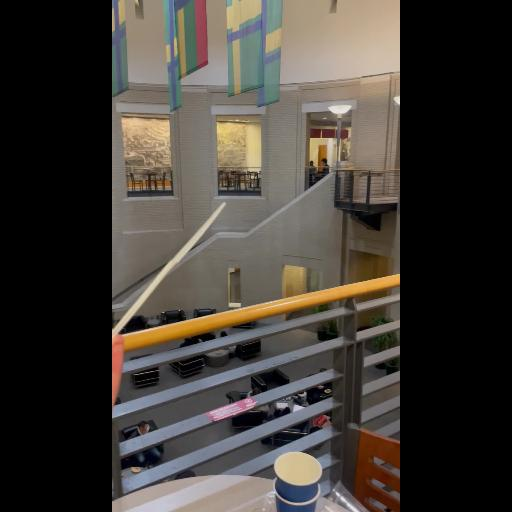utensil: (114, 196, 240, 348)
